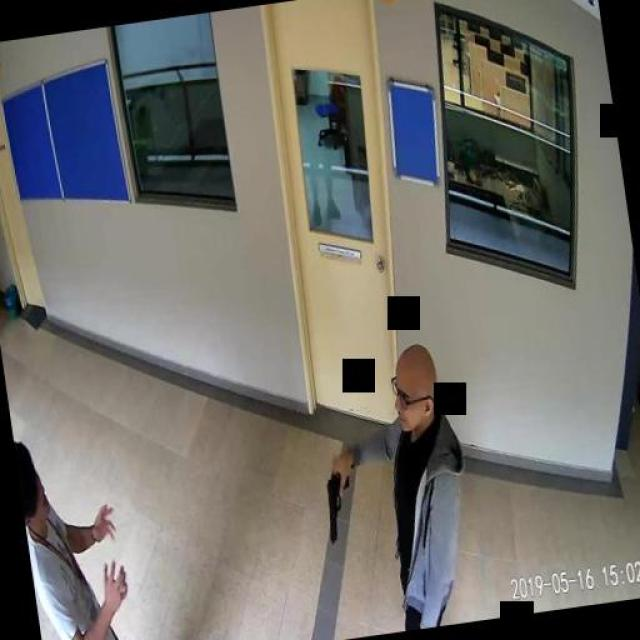gun: (320, 465, 358, 543)
